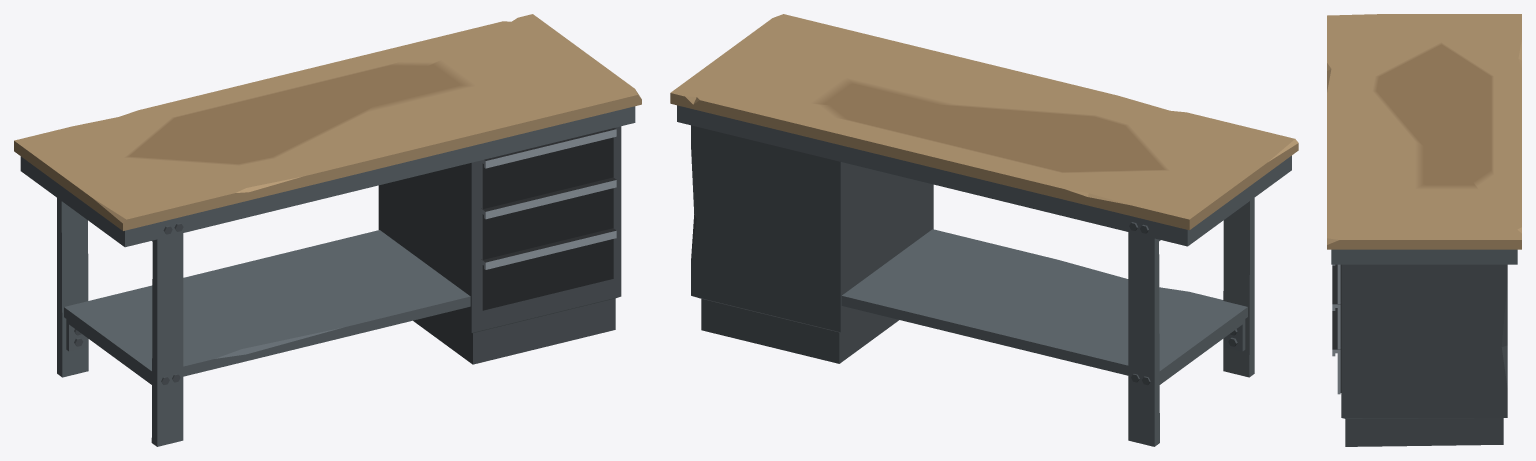
File: SM_Prop_WorkTable_01_Preset.fbx
3 renders of one model, left to right at view 1: azimuth 30°, elevation 25°; view 2: azimuth 150°, elevation 25°; view 3: azimuth 270°, elevation 25°, orthographic. The views are drawn at different scales.
Parts seen in each view (by area): view 1: SM_Prop_WorkTable_01_Preset; view 2: SM_Prop_WorkTable_01_Preset; view 3: SM_Prop_WorkTable_01_Preset.
Boxes of the visible parts, <box> form: SM_Prop_WorkTable_01_Preset: <box>14,14,641,446</box>; SM_Prop_WorkTable_01_Preset: <box>670,14,1298,446</box>; SM_Prop_WorkTable_01_Preset: <box>1327,14,1521,446</box>.
Size of the model in its own units: 213 by 93.9 by 77.51.
